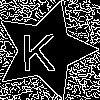K: (20, 25, 56, 71)
